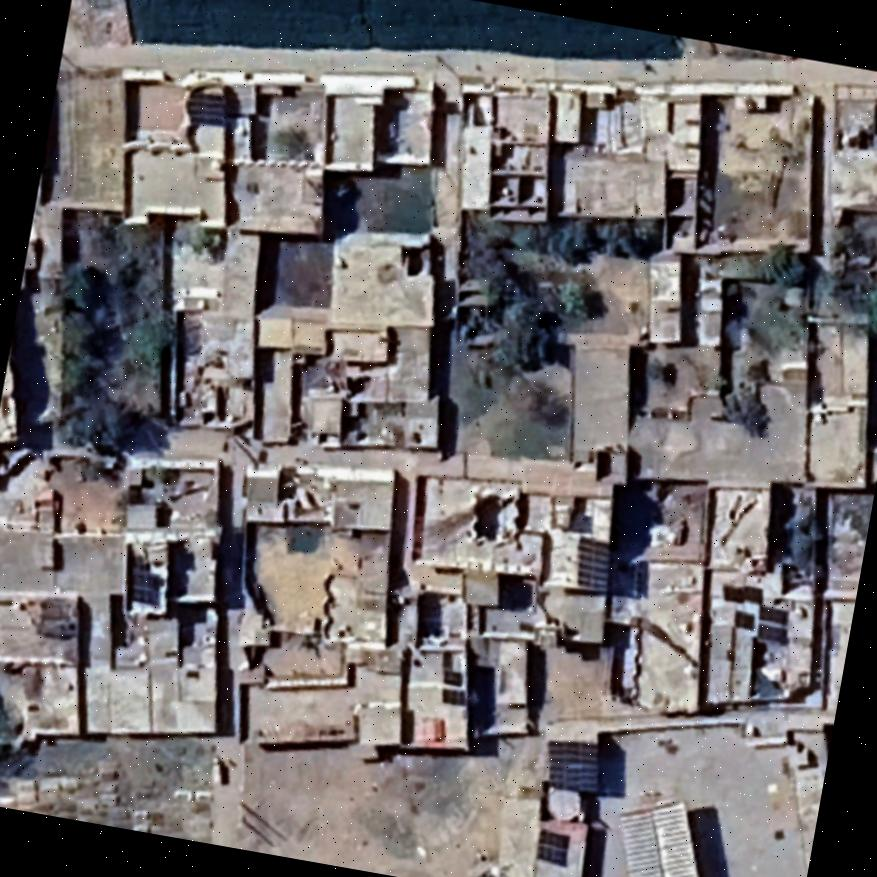Solarpanel: (536, 729, 613, 802), (565, 530, 622, 600), (178, 81, 236, 133), (530, 822, 578, 870), (121, 560, 164, 610), (751, 602, 794, 648), (718, 578, 769, 611), (730, 608, 758, 634)
